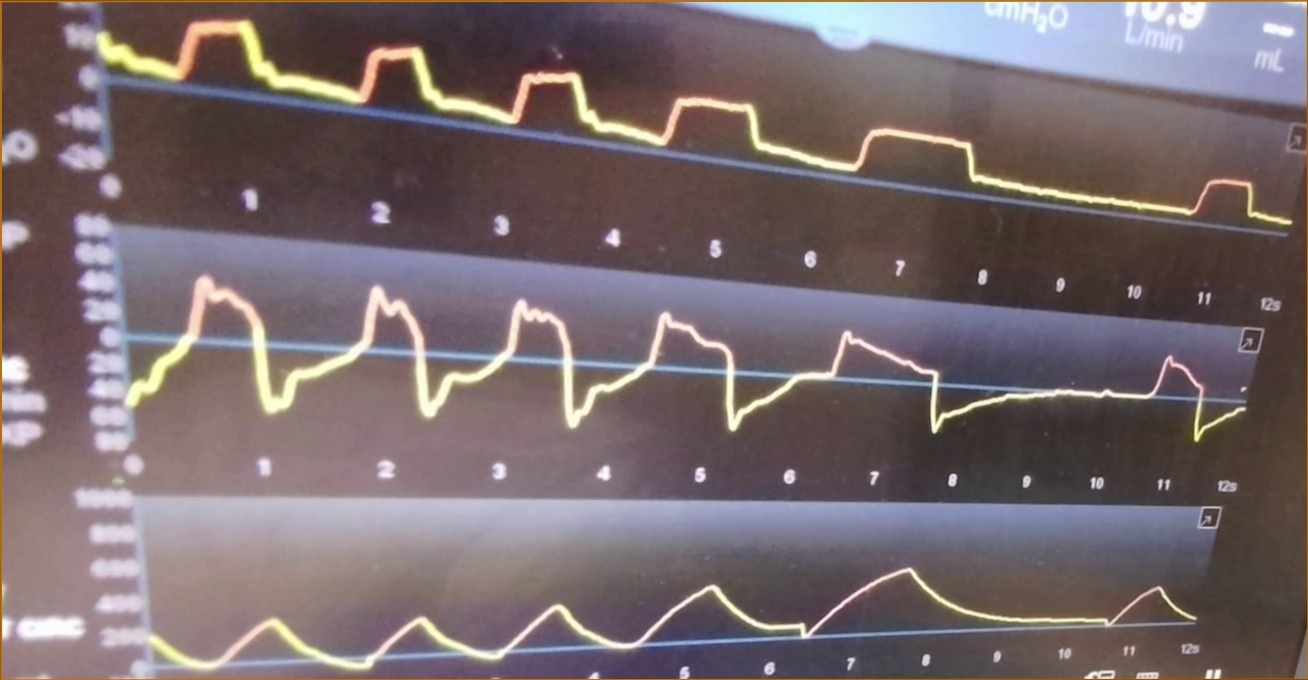Accumulation Flow: (137, 273, 1249, 442)
Volume: (151, 537, 1195, 677)
